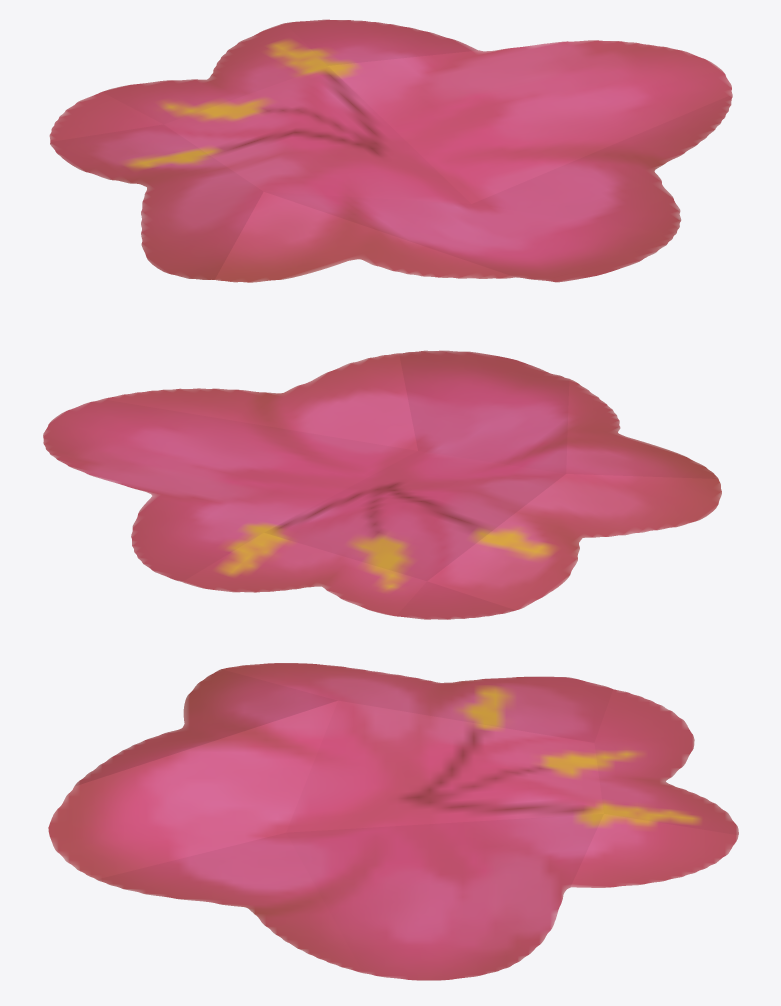
Rendered from SmallFlower_06.fbx.
3 renders of one model, top to bottom at view 1: azimuth 30°, elevation 25°; view 2: azimuth 150°, elevation 25°; view 3: azimuth 270°, elevation 25°, orthographic. The views are drawn at different scales.
Parts seen in each view (by area): view 1: SM_FlowerPink; view 2: SM_FlowerPink; view 3: SM_FlowerPink.
Boxes of the visible parts, x1,y1,x2,y2 form: SM_FlowerPink: [49, 19, 732, 282]; SM_FlowerPink: [43, 350, 721, 619]; SM_FlowerPink: [48, 663, 738, 980].
Size of the model in its own units: 14.07 by 0.7863 by 13.47.
